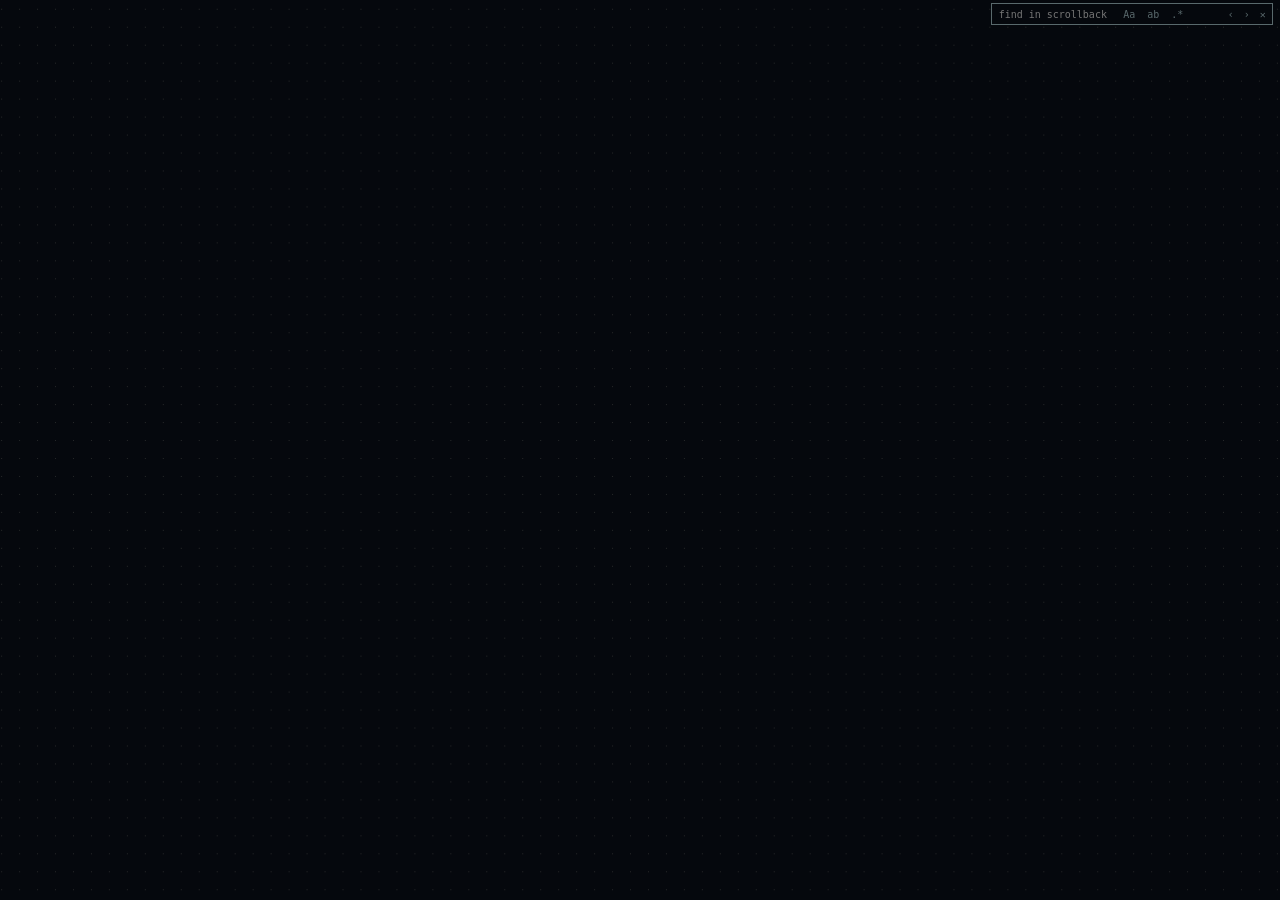
Scenario: TerminalSearch, with a pattern half typed › says it is not a pattern rather than searching
Click the button with test id "terminal-search-regex": {"x": 1177, "y": 14} x1=1167 y1=7 x2=1188 y2=22
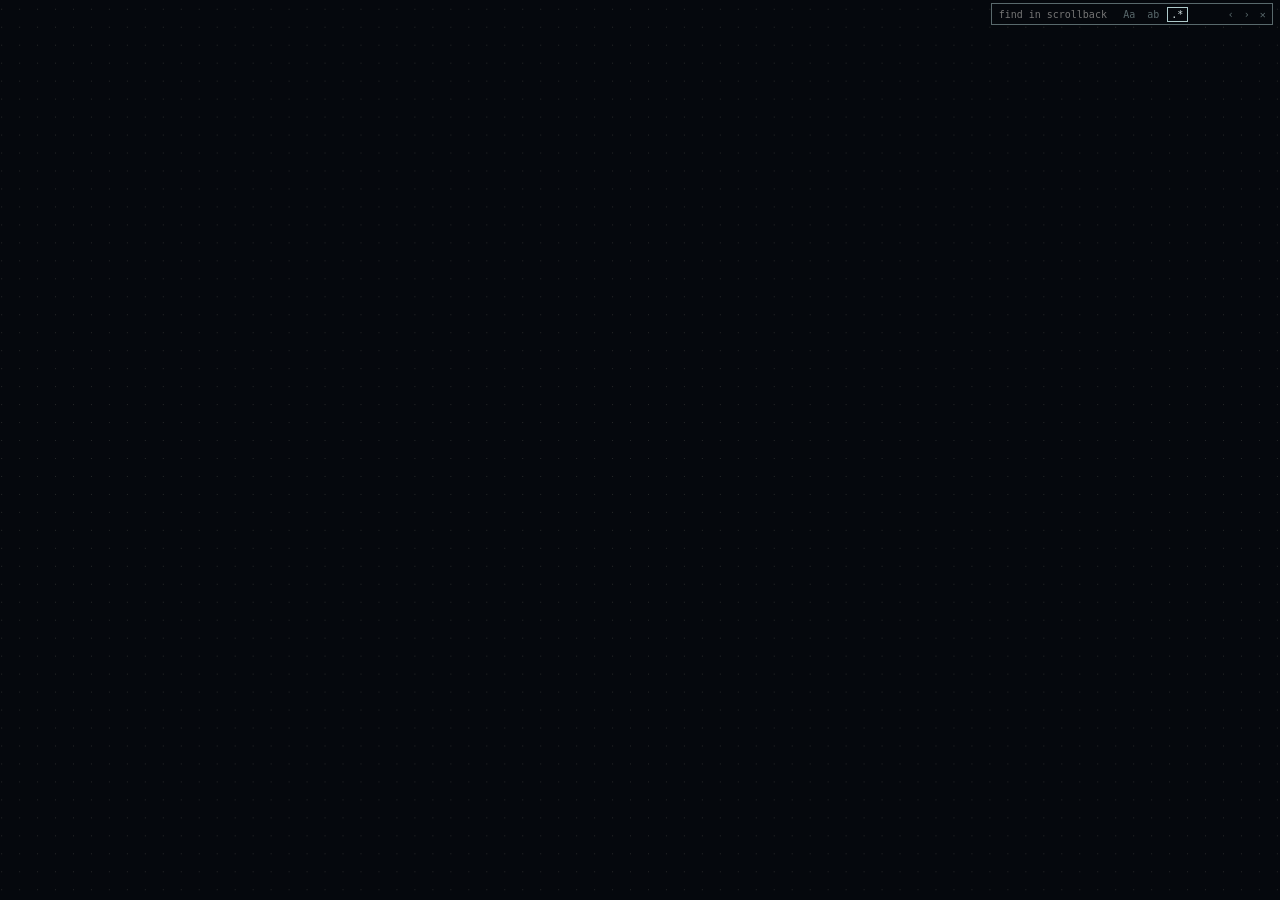
In the field with test id "terminal-search-box": {"x": 1056, "y": 14} x1=995 y1=6 x2=1116 y2=22, type "("
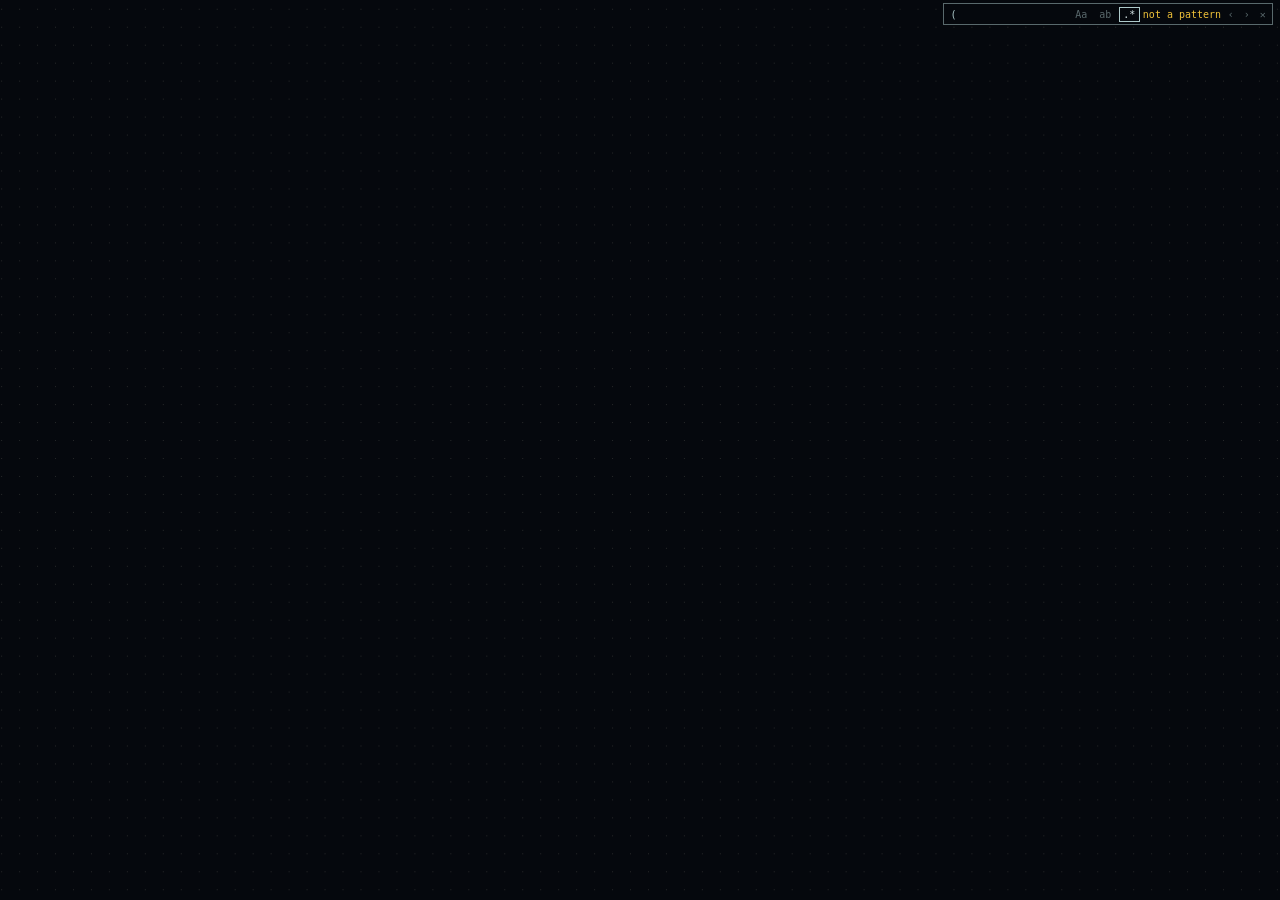
Expected: the text with test id "terminal-search-tally" reads "not a pattern", x1=1143 y1=9 x2=1221 y2=20
